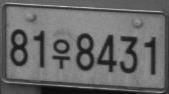1: (141, 35, 162, 76), (31, 29, 51, 68)
3: (119, 35, 138, 74)
4: (95, 33, 117, 73)
8: (8, 28, 29, 67), (75, 32, 95, 71)
우: (51, 37, 71, 69)
